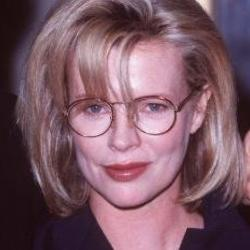face: (11, 7, 249, 224)
